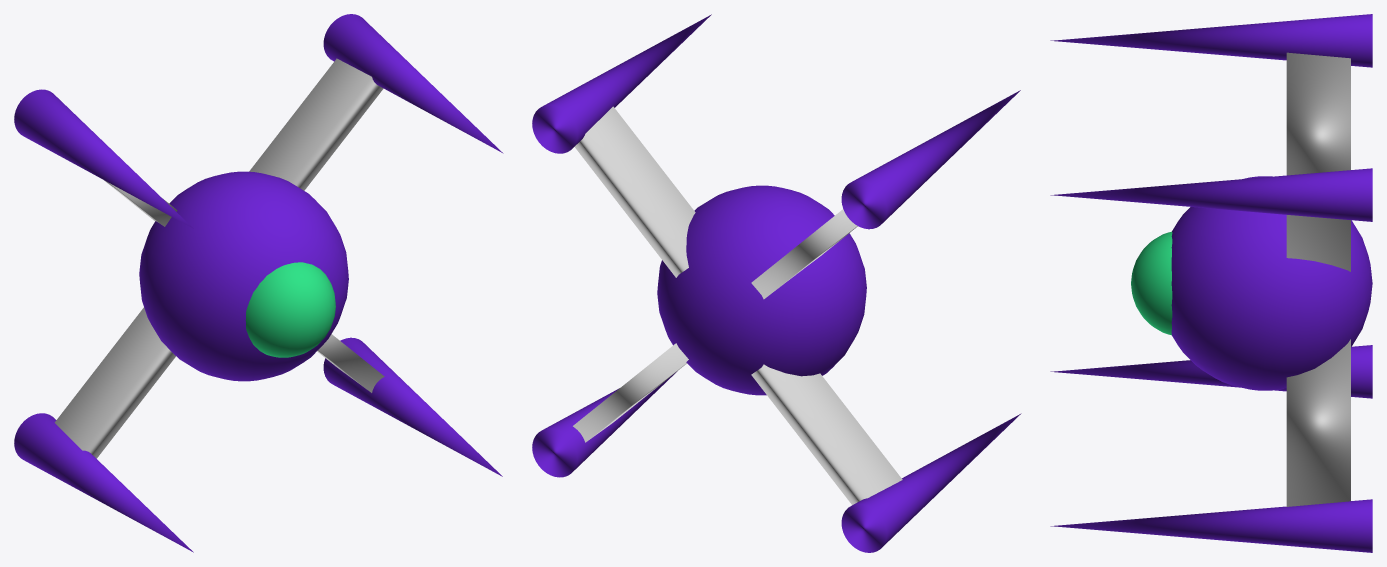
File: interceptor.fbx
The picture shows the model from 3 angles, left to right: view 1: azimuth 30°, elevation 25°; view 2: azimuth 150°, elevation 25°; view 3: azimuth 270°, elevation 25°; orthographic projection. The views are drawn at different scales.
Parts seen in each view (by area): view 1: Head, Wing, Tubular, Cockpit; view 2: Head, Tubular, Wing; view 3: Wing, Head, Tubular, Cockpit.
Part boxes in pixels (x1,y1,x2,y2): Head: (139, 171, 348, 381); Wing: (14, 14, 503, 552); Tubular: (54, 58, 384, 458); Cockpit: (245, 262, 335, 357); Head: (657, 185, 866, 395); Tubular: (573, 106, 902, 505); Wing: (532, 14, 1021, 552); Wing: (1050, 14, 1372, 552); Head: (1171, 176, 1372, 390); Tubular: (1286, 52, 1350, 506); Cockpit: (1131, 231, 1172, 335).
Bounding box in the file's own units: 390 × 390 × 300.
